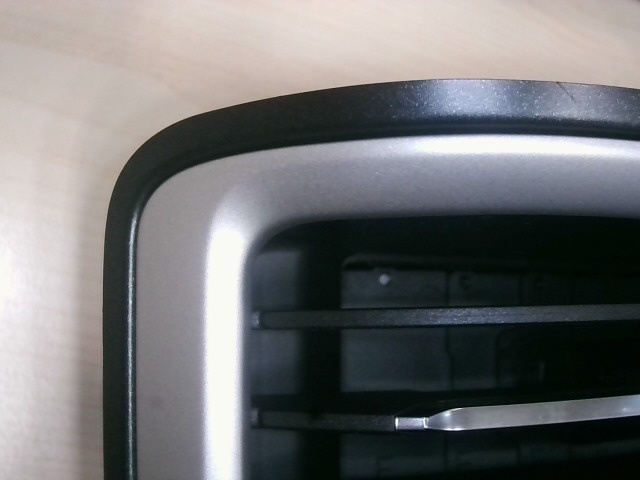NG: (545, 72, 592, 133)
